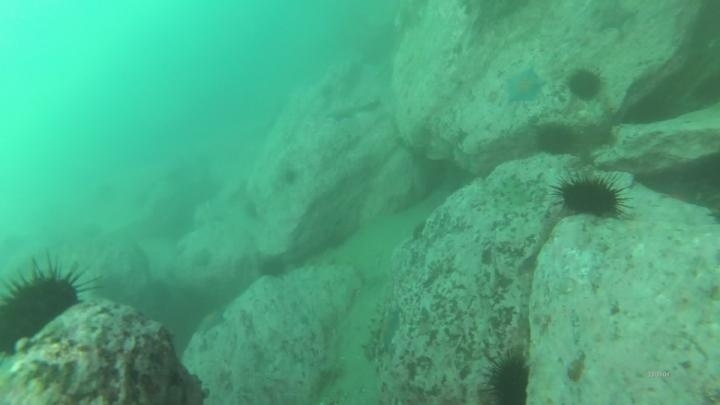echinus: (1, 261, 86, 357), (554, 172, 630, 221), (482, 350, 534, 405), (533, 121, 579, 158), (565, 66, 605, 102), (257, 254, 290, 282)
holothurian: (360, 301, 388, 358)
starfish: (501, 64, 547, 106), (589, 3, 639, 36), (380, 306, 401, 360), (194, 305, 229, 337)
